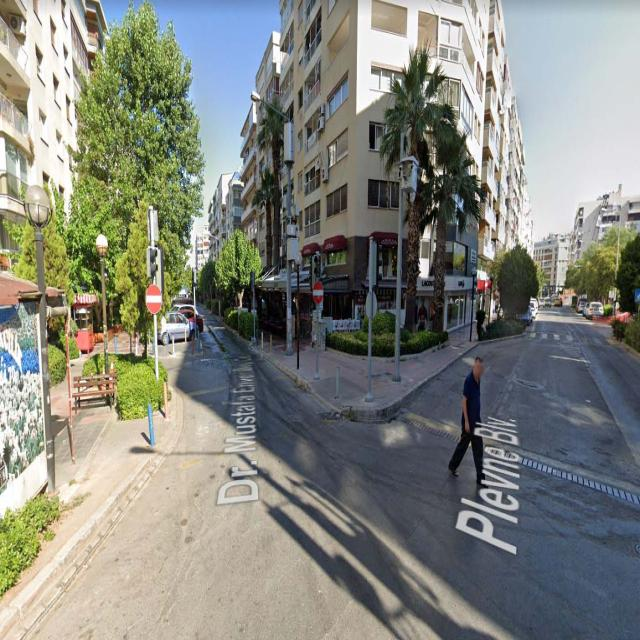girisyok: (144, 282, 162, 315), (313, 281, 323, 304)
